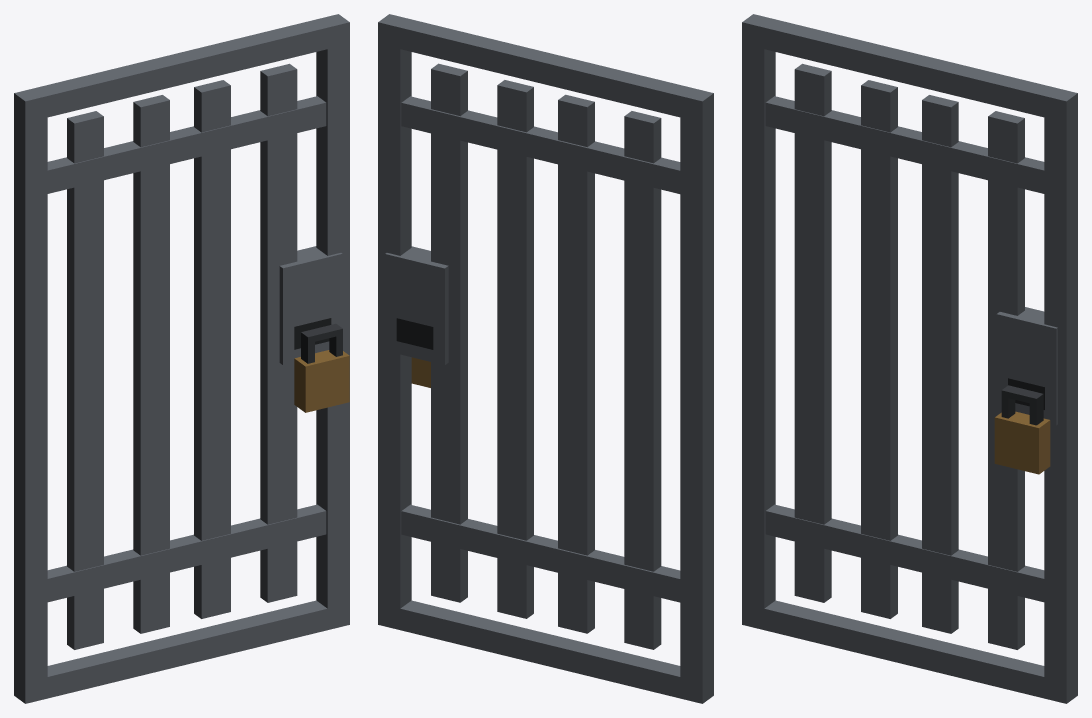
File: AI_Env_Sewer_Door.fbx
3 views of the same model, side by side, from view 1: azimuth 30°, elevation 25°; view 2: azimuth 150°, elevation 25°; view 3: azimuth 330°, elevation 25° (orthographic).
Parts seen in each view (by area): view 1: AI_Env_Sewer_Door; view 2: AI_Env_Sewer_Door; view 3: AI_Env_Sewer_Door.
Boxes of the visible parts, left/top/right/bottom form: AI_Env_Sewer_Door: left=14, top=14, right=349, bottom=703; AI_Env_Sewer_Door: left=378, top=14, right=713, bottom=703; AI_Env_Sewer_Door: left=742, top=14, right=1077, bottom=703.
Bounding box in the file's own units: 1.64 × 2.91 × 0.2345.
